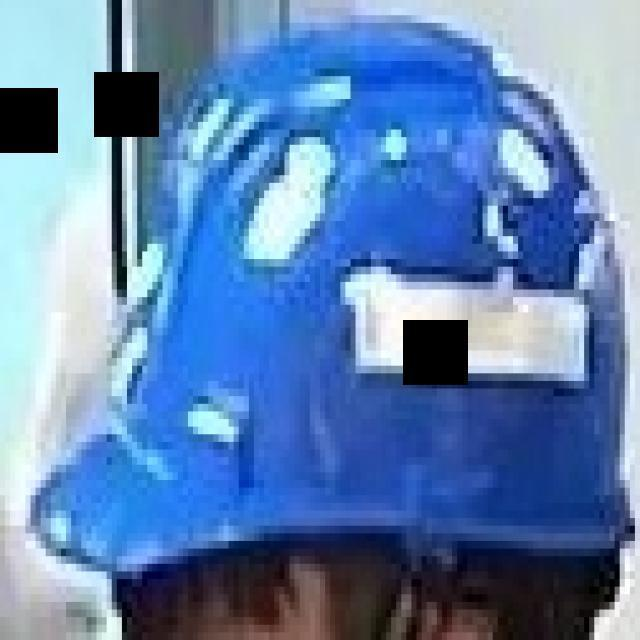blue helmet: (83, 29, 628, 562)
